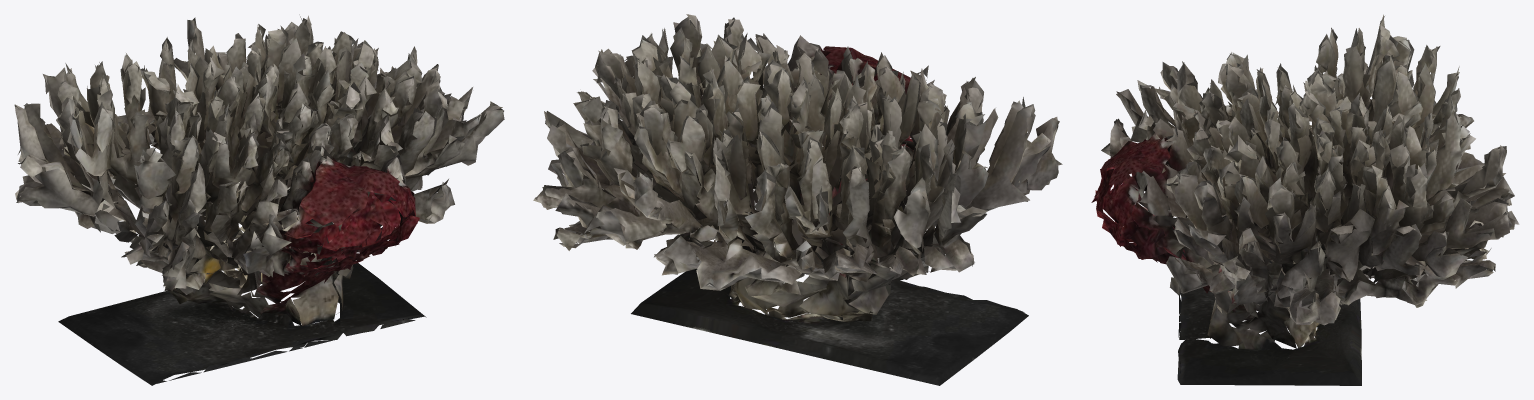
The model's file is Secale_LOD1.fbx.
The picture shows the model from 3 angles, left to right: view 1: azimuth 30°, elevation 25°; view 2: azimuth 150°, elevation 25°; view 3: azimuth 270°, elevation 25°; orthographic projection. The views are drawn at different scales.
Visible parts, largest first — view 1: Secale_LOD1; view 2: Secale_LOD1; view 3: Secale_LOD1.
Part boxes in pixels (<box>): Secale_LOD1: <box>14,14,504,385</box>; Secale_LOD1: <box>533,14,1062,385</box>; Secale_LOD1: <box>1091,14,1519,385</box>.
Size of the model in its own units: 100 by 51.5 by 85.87.
